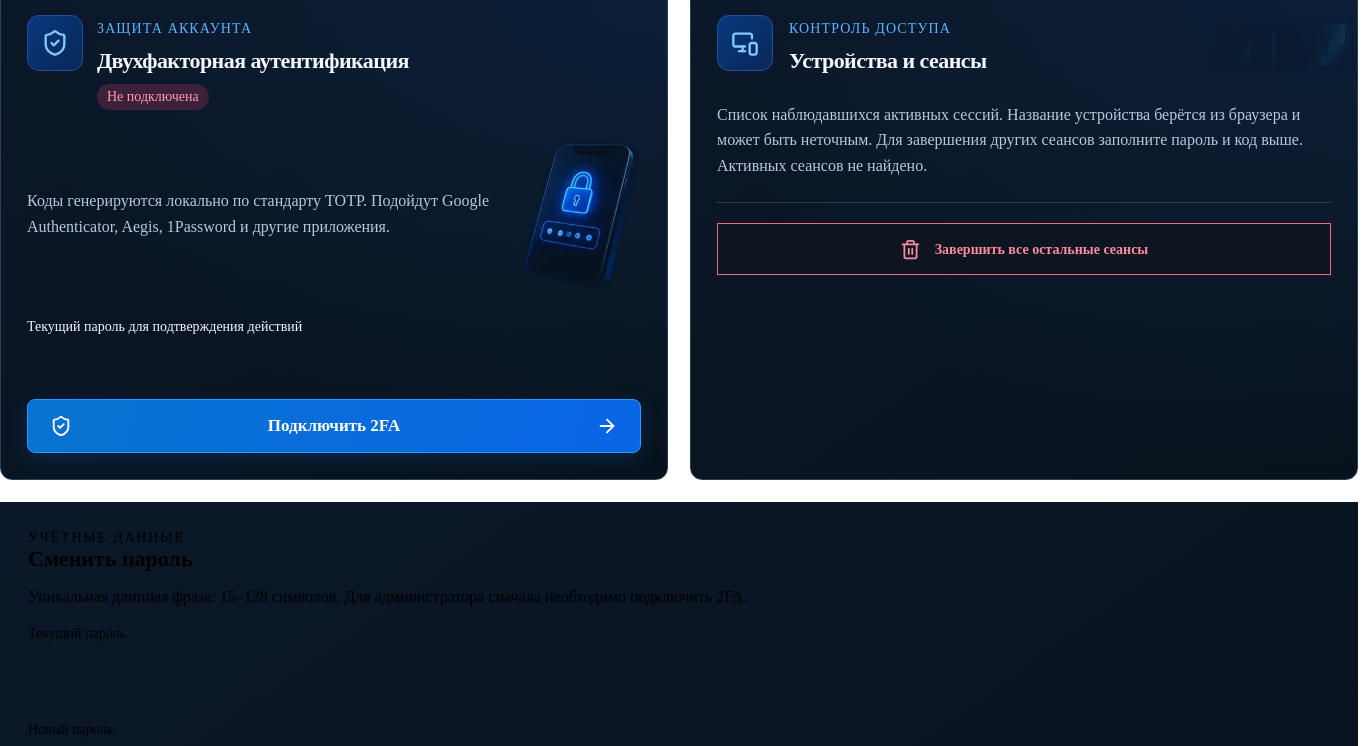
Modular account dashboard › shows failed setup as an error, not a success state
This screenshot has width=1366, height=746.
Click the button "Подключить 2FA": (334, 426) [27,399,641,453]
(page scrolled)
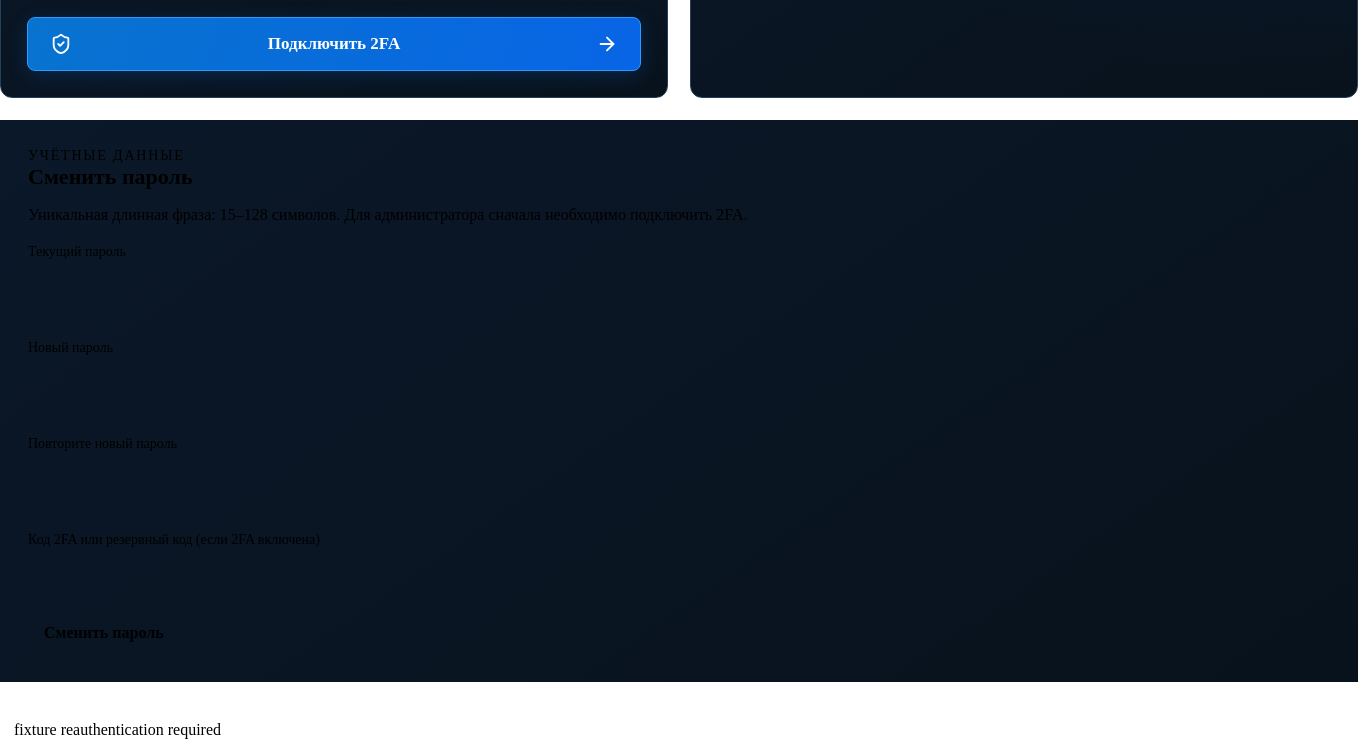
Expected: the message "fixture reauthentication required" is shown, [14,721,221,738]
